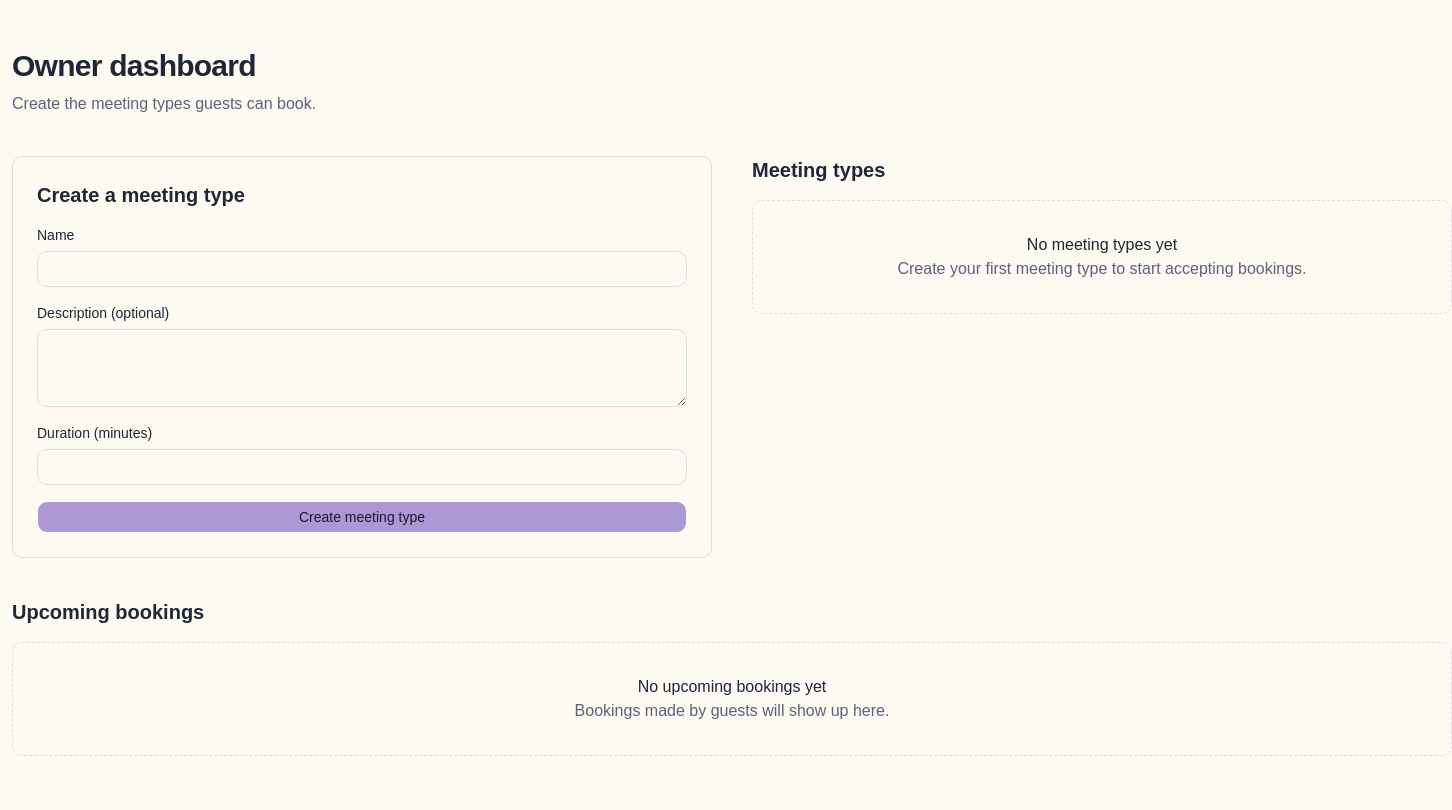
OwnerDashboardPage › creates a meeting type and shows it in the list immediately
The image size is (1452, 810).
Check: the heading "No meeting types yet" is shown, box left=1027, top=236, right=1177, bottom=253
Type "Strategy call" into the field labelled "Name" at point(362, 269), box left=37, top=251, right=687, bottom=287
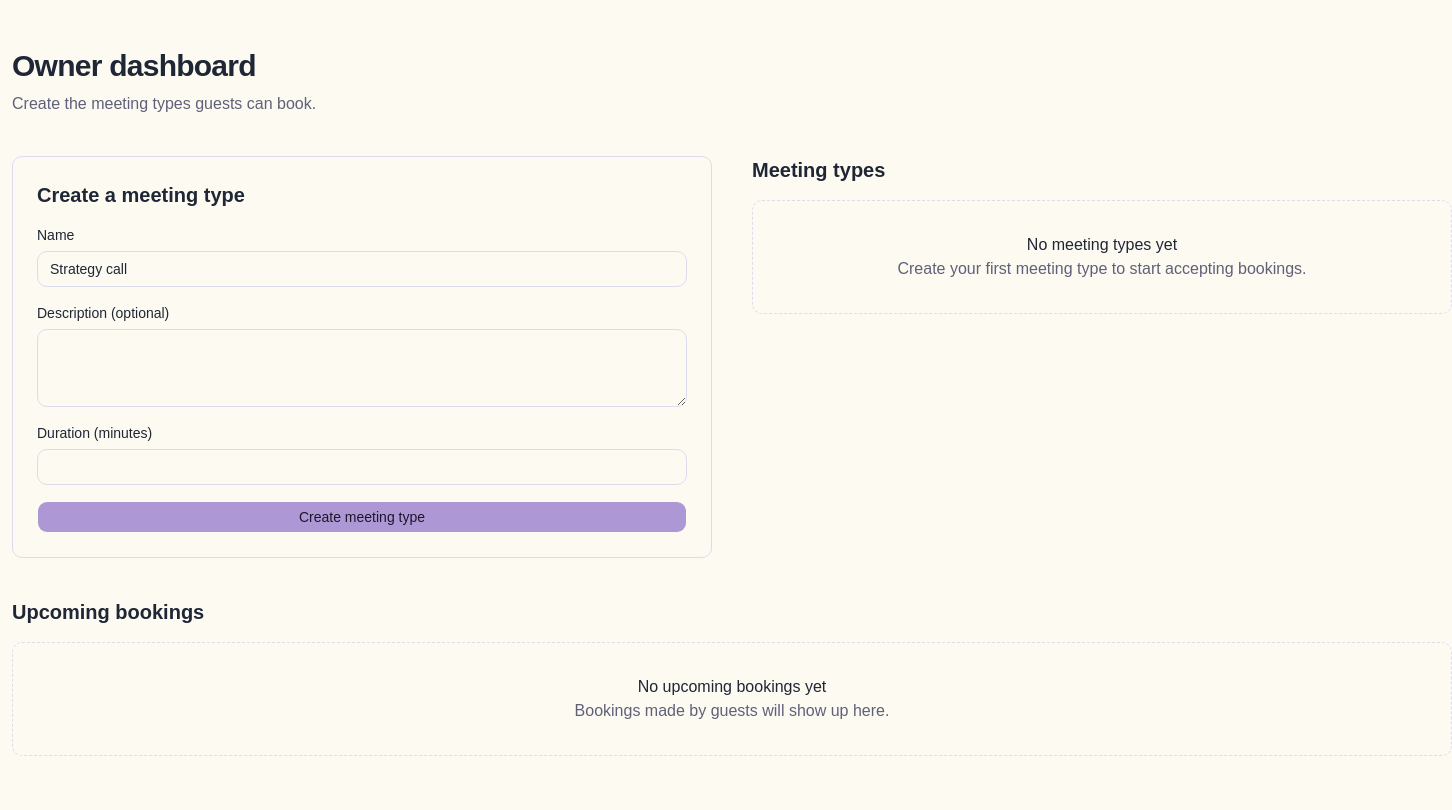
Type "Plan the next quarter." into the text box labelled "Description (optional)" at point(362, 368), box left=37, top=329, right=687, bottom=407
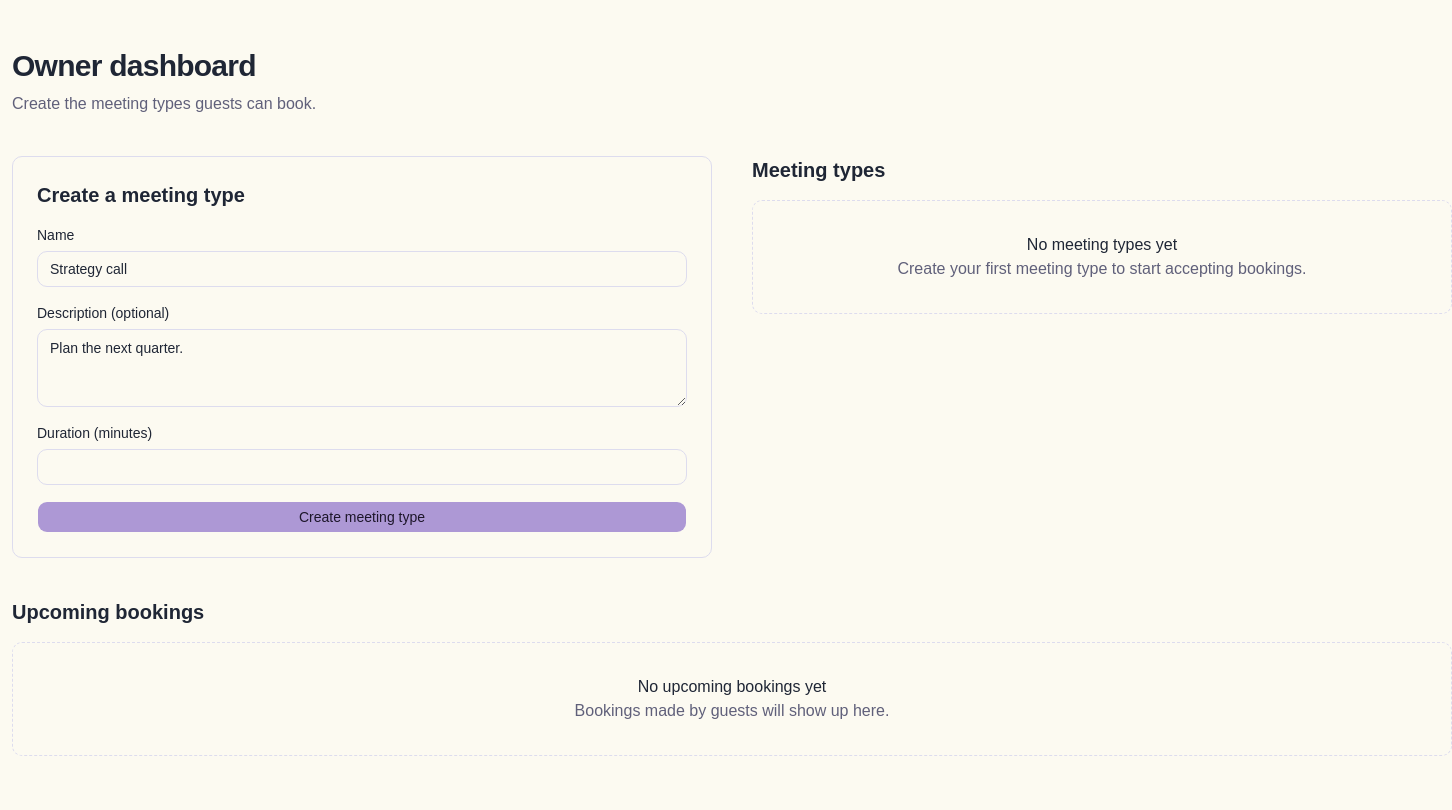
Type "45" into the number field labelled "Duration (minutes)" at point(362, 467), box left=37, top=449, right=687, bottom=485
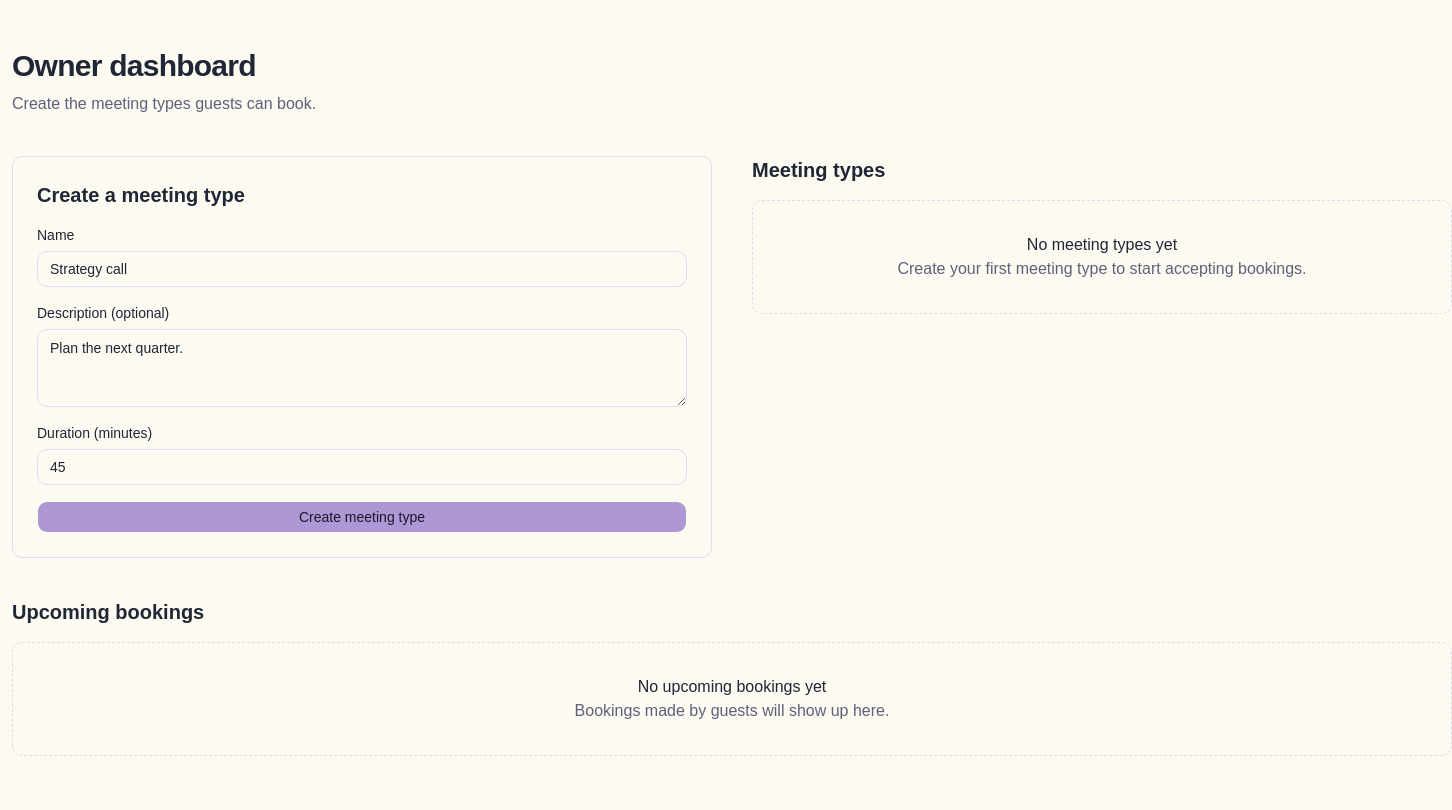
Click the button "Create meeting type" at point(362, 517), box left=37, top=501, right=687, bottom=533
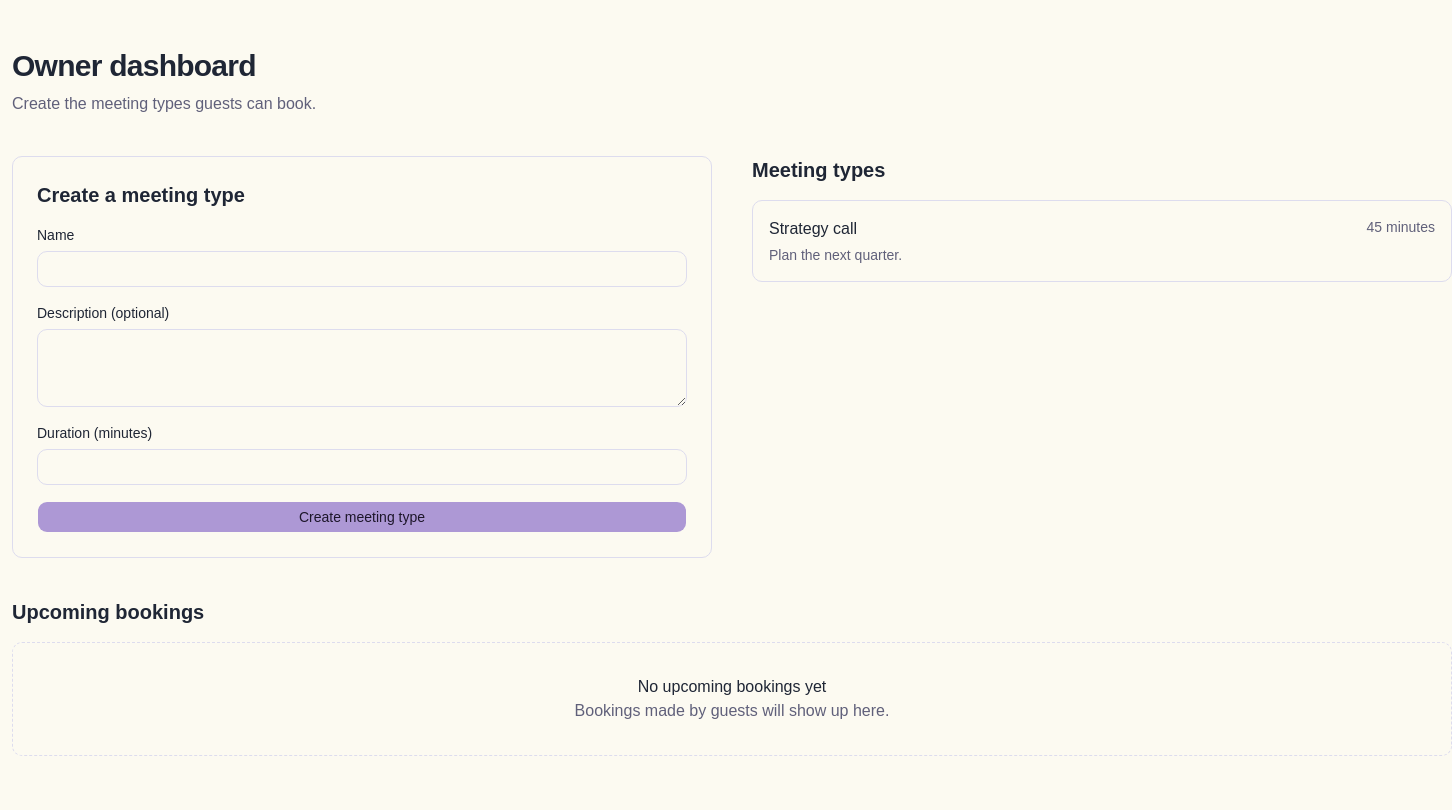
Check: the heading "Strategy call" is shown, box left=769, top=217, right=857, bottom=241
Check: the field labelled "Name" is empty, box left=37, top=251, right=687, bottom=287
